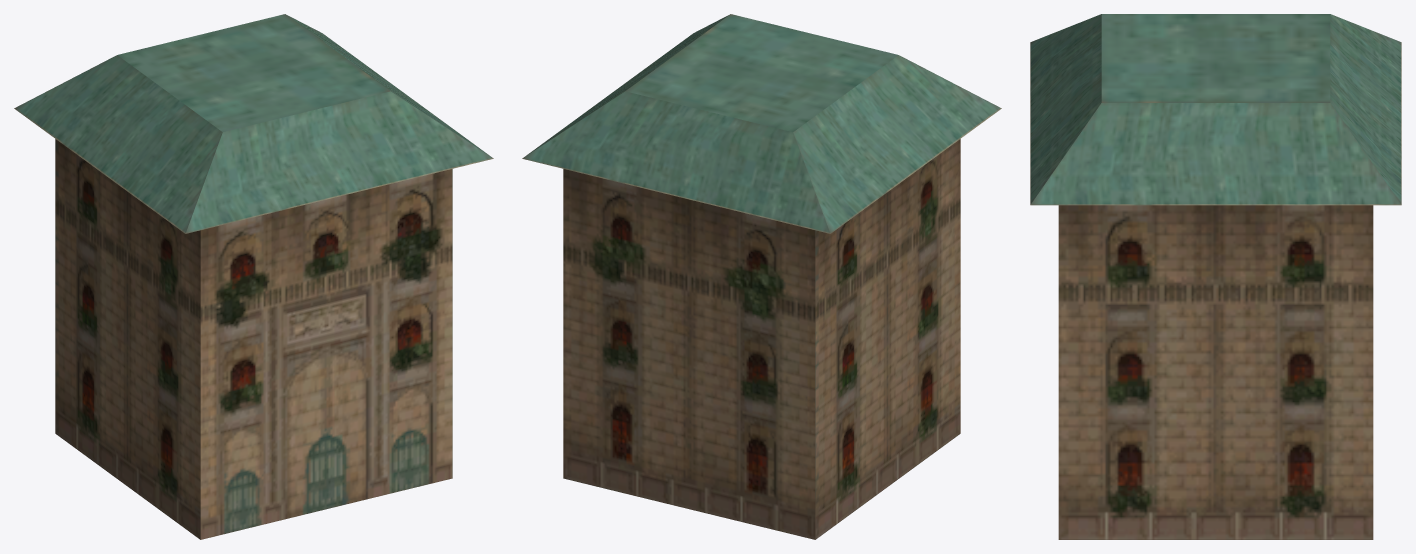
File: thm_nboo_thed_imprv_building_s06_l3.fbx
3 renders of one model, left to right at view 1: azimuth 30°, elevation 25°; view 2: azimuth 150°, elevation 25°; view 3: azimuth 270°, elevation 25°, orthographic. The views are drawn at different scales.
Visible parts, largest first — view 1: mesh_node; view 2: mesh_node; view 3: mesh_node.
Boxes of the visible parts, left/top/right/bottom form: mesh_node: left=14, top=14, right=493, bottom=539; mesh_node: left=522, top=14, right=1001, bottom=539; mesh_node: left=1030, top=14, right=1401, bottom=539.
Size of the model in its own units: 16.85 by 19.99 by 16.23.
